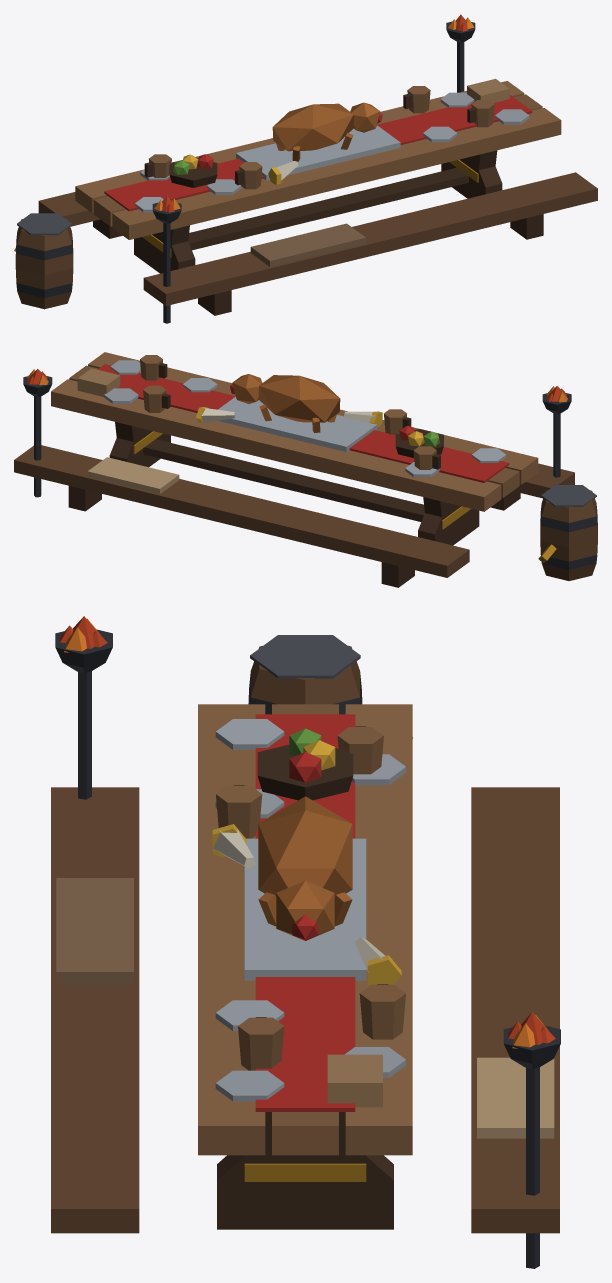
File: Decor_VikingLonghouse_Feast.fbx
3 views of the same model, one above another, from view 1: azimuth 30°, elevation 25°; view 2: azimuth 150°, elevation 25°; view 3: azimuth 270°, elevation 25° (orthographic). The views are drawn at different scales.
Visible parts, largest first — view 1: Feast_Body; view 2: Feast_Body; view 3: Feast_Body.
Boxes of the visible parts, bbox=[...] form: Feast_Body: bbox=[14, 14, 597, 323]; Feast_Body: bbox=[14, 352, 597, 587]; Feast_Body: bbox=[51, 616, 560, 1268].
Bounding box in the file's own units: 21.6 × 5.1 × 9.2.
